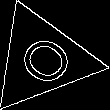O_SE: (6, 27, 78, 92)
